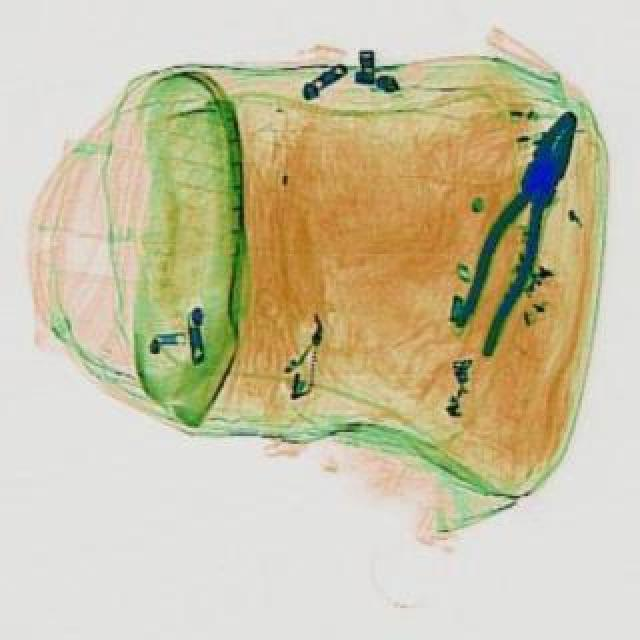wrench: (442, 98, 592, 358)
